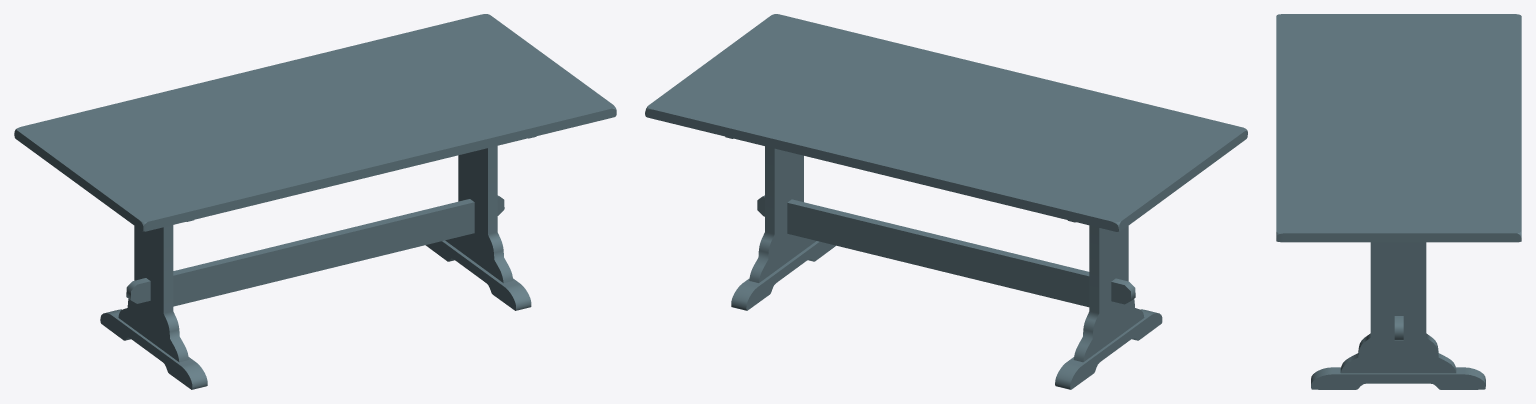
The model's file is parts.gltf.
3 renders of one model, left to right at view 1: azimuth 30°, elevation 25°; view 2: azimuth 150°, elevation 25°; view 3: azimuth 270°, elevation 25°, orthographic. The views are drawn at different scales.
Visible parts, largest first — view 1: painted_wooden_table; view 2: painted_wooden_table; view 3: painted_wooden_table.
Boxes of the visible parts, box(x1,y1,x2,y2) form: painted_wooden_table: box(14, 14, 616, 389); painted_wooden_table: box(645, 14, 1247, 389); painted_wooden_table: box(1276, 14, 1521, 389).
Size of the model in its own units: 2.41 by 0.9586 by 1.14.
